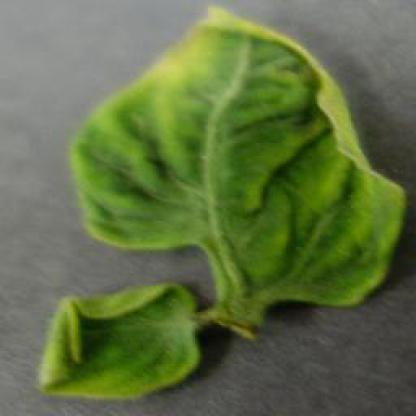bad leaf: (301, 42, 364, 198), (44, 306, 160, 386), (200, 0, 299, 62), (345, 161, 396, 270), (150, 32, 228, 96)
